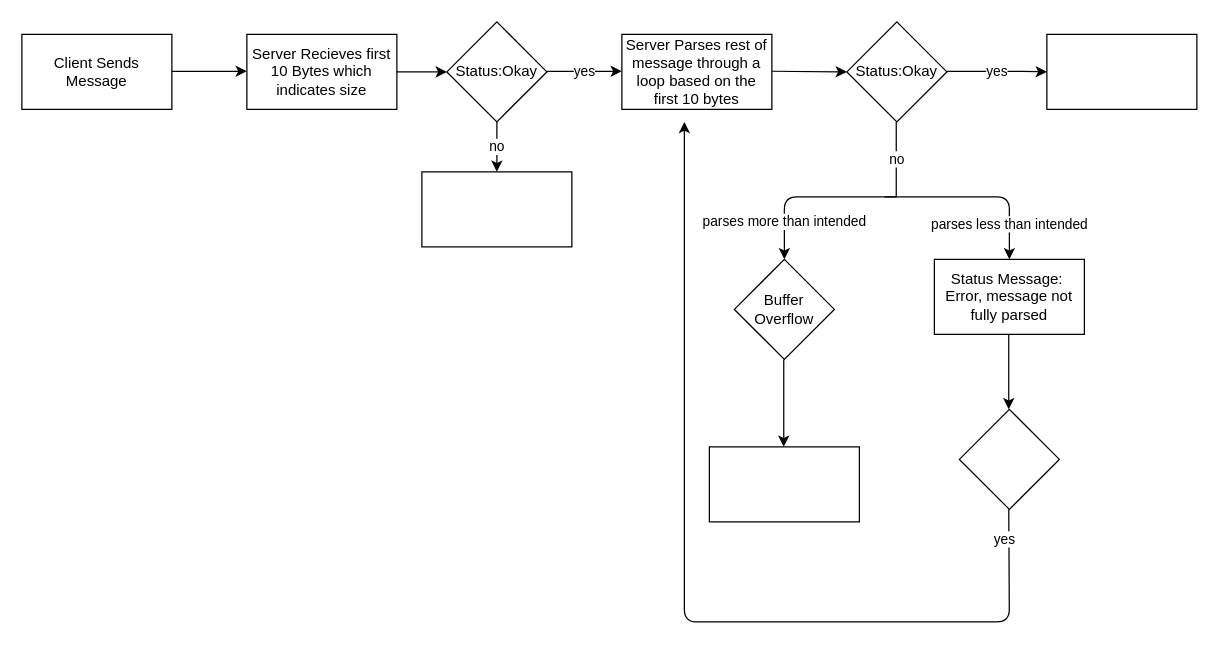
Image size: 1219x654. Some labels were removed from this diagram. Here are the shapes that lost their labels. From the top down, the centre of each, then its label:
At (1121,71): "Server successfully receives entire message".
At (496,209): "Error, minimum file size of 10 bytes not met.".
At (1008,458): "Retry?".
At (783,484): "Status Message: Error, buffer overflow".
